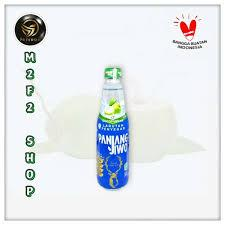BIODEGRADABLE: (98, 63, 132, 192)
